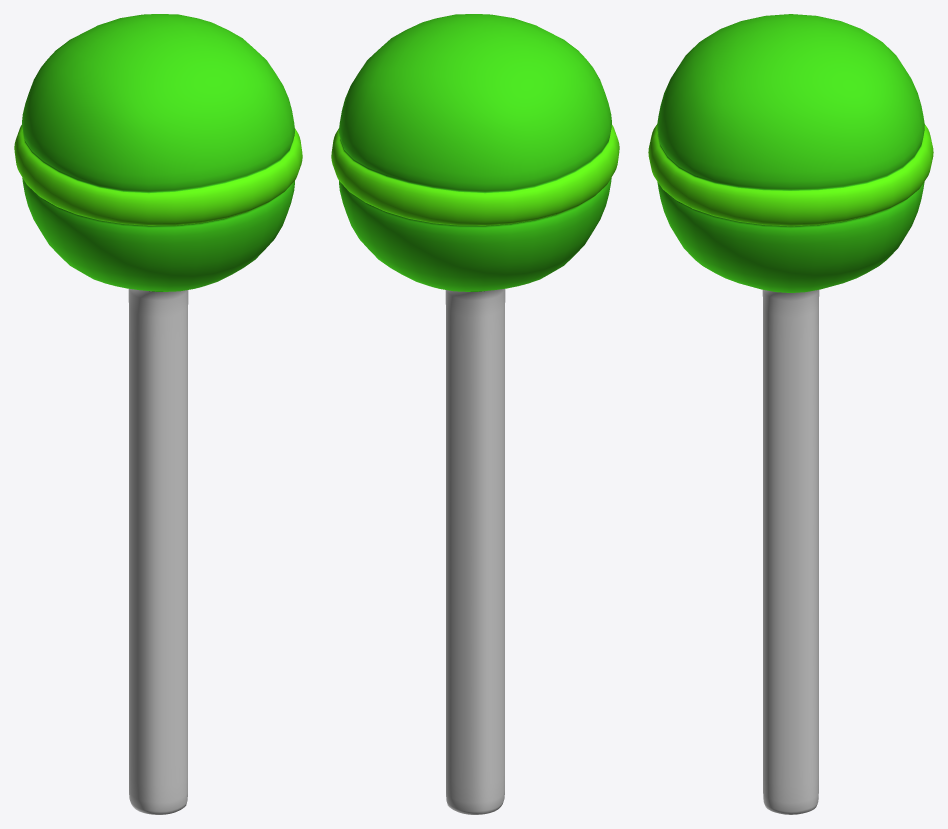
File: Lollipop.fbx
3 renders of one model, left to right at view 1: azimuth 30°, elevation 25°; view 2: azimuth 150°, elevation 25°; view 3: azimuth 270°, elevation 25°, orthographic.
Parts seen in each view (by area): view 1: Lollipop; view 2: Lollipop; view 3: Lollipop.
Boxes of the visible parts, <box> form: Lollipop: <box>14,14,302,814</box>; Lollipop: <box>331,14,619,814</box>; Lollipop: <box>648,14,933,814</box>.
Bounding box in the file's own units: 147 × 444 × 147.
